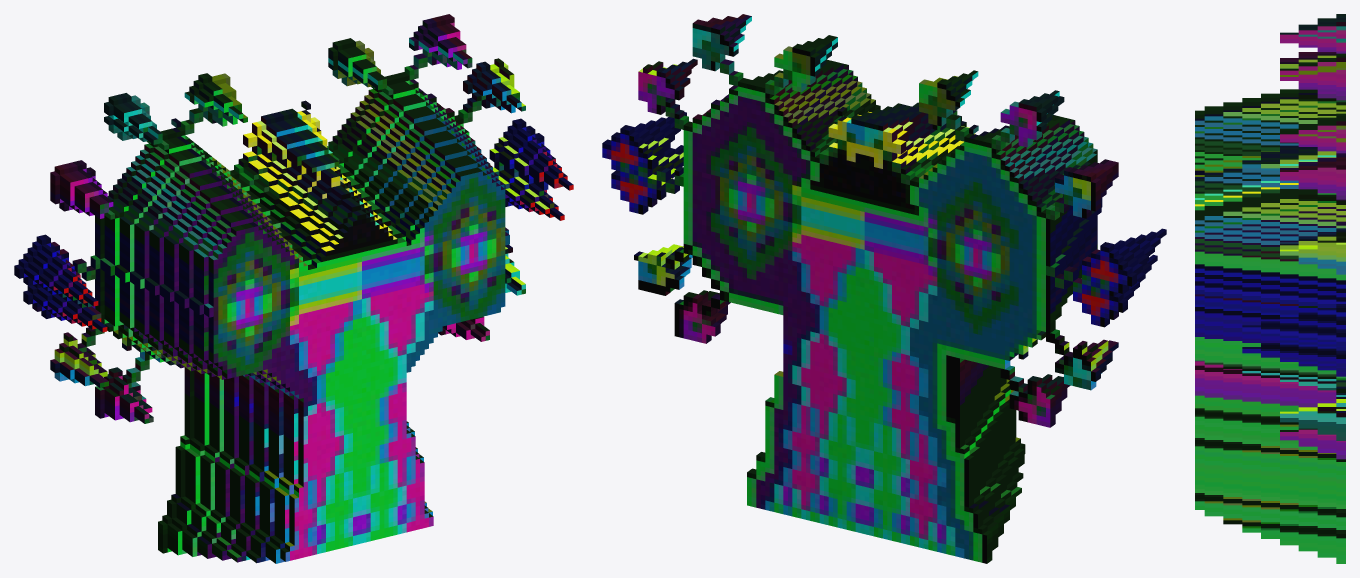
File: dreamlingP17.obj
3 renders of one model, left to right at view 1: azimuth 30°, elevation 25°; view 2: azimuth 150°, elevation 25°; view 3: azimuth 270°, elevation 25°, orthographic. The views are drawn at different scales.
Size of the model in its own units: 117 by 99 by 32.
